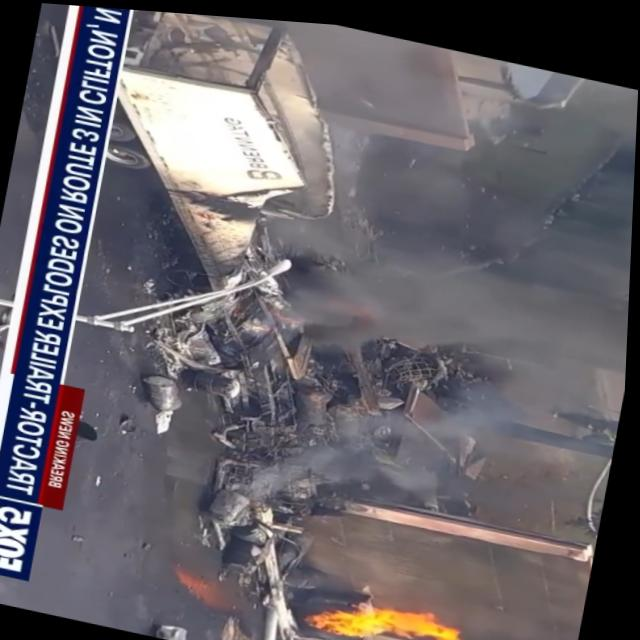Fire: (311, 576, 482, 640)
